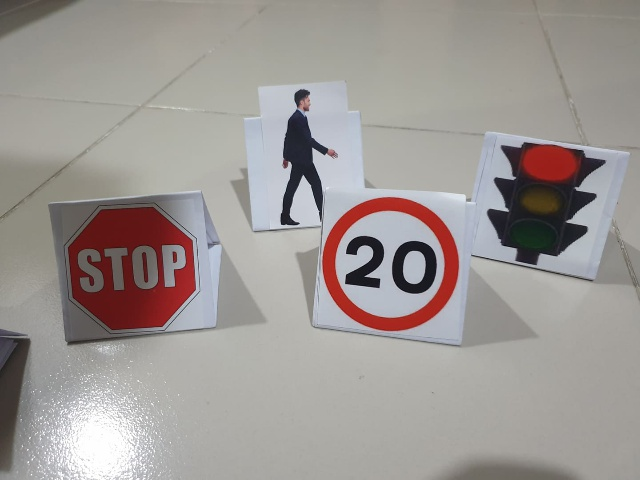Limit 20: (325, 203, 458, 328)
Person: (263, 82, 335, 223)
Red: (494, 141, 599, 274)
Stop: (63, 206, 200, 327)
